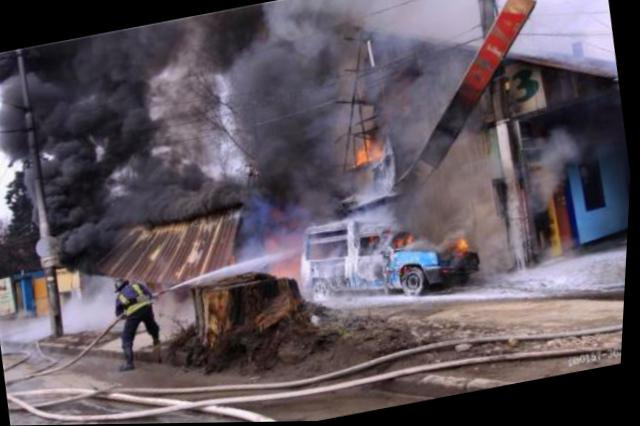fire: (354, 139, 376, 166), (451, 238, 468, 254)
